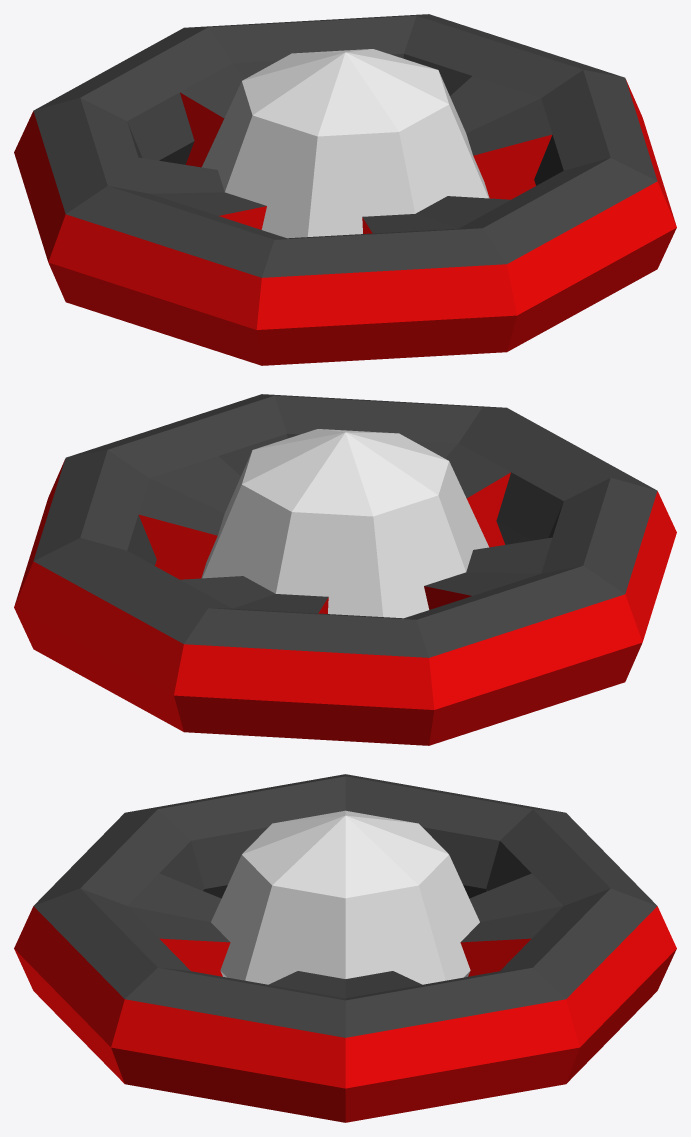
Rendered from Bomb.fbx.
The picture shows the model from 3 angles, top to bottom: view 1: azimuth 30°, elevation 25°; view 2: azimuth 150°, elevation 25°; view 3: azimuth 270°, elevation 25°; orthographic projection. The views are drawn at different scales.
Parts seen in each view (by area): view 1: Container, Bomb; view 2: Container, Bomb; view 3: Container, Bomb.
Part boxes in pixels (<box>): Container: <box>14,14,676,365</box>; Bomb: <box>202,49,489,238</box>; Container: <box>14,394,676,745</box>; Bomb: <box>201,429,488,618</box>; Container: <box>14,774,676,1122</box>; Bomb: <box>211,810,479,984</box>.
Bounding box in the file's own units: 90.43 × 40 × 90.43.
